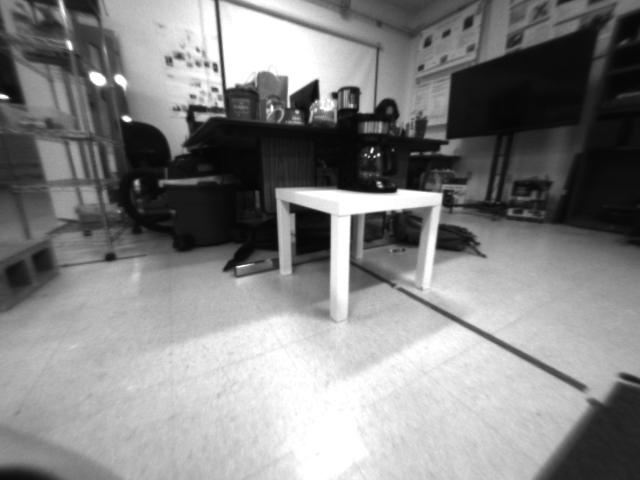coffee_pot: (337, 111, 398, 192)
